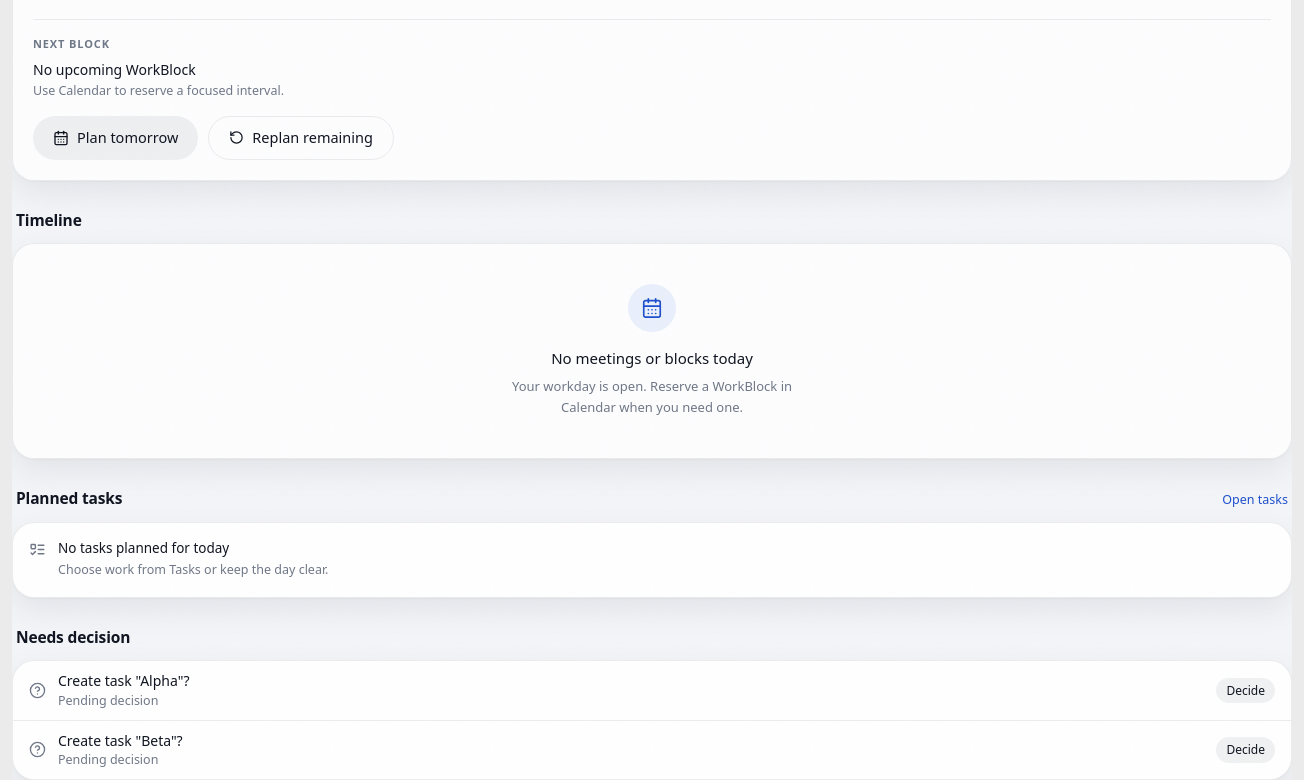
it: TodayPage confirmation decisions › handles an accepted confirmation inline and keeps the remaining item
This screenshot has width=1304, height=780.
(page scrolled)
Click the button "Create task \"Alpha\"? Pending decision Decide". click: (124, 681)
box: [13,661,1291,720]
(page scrolled)
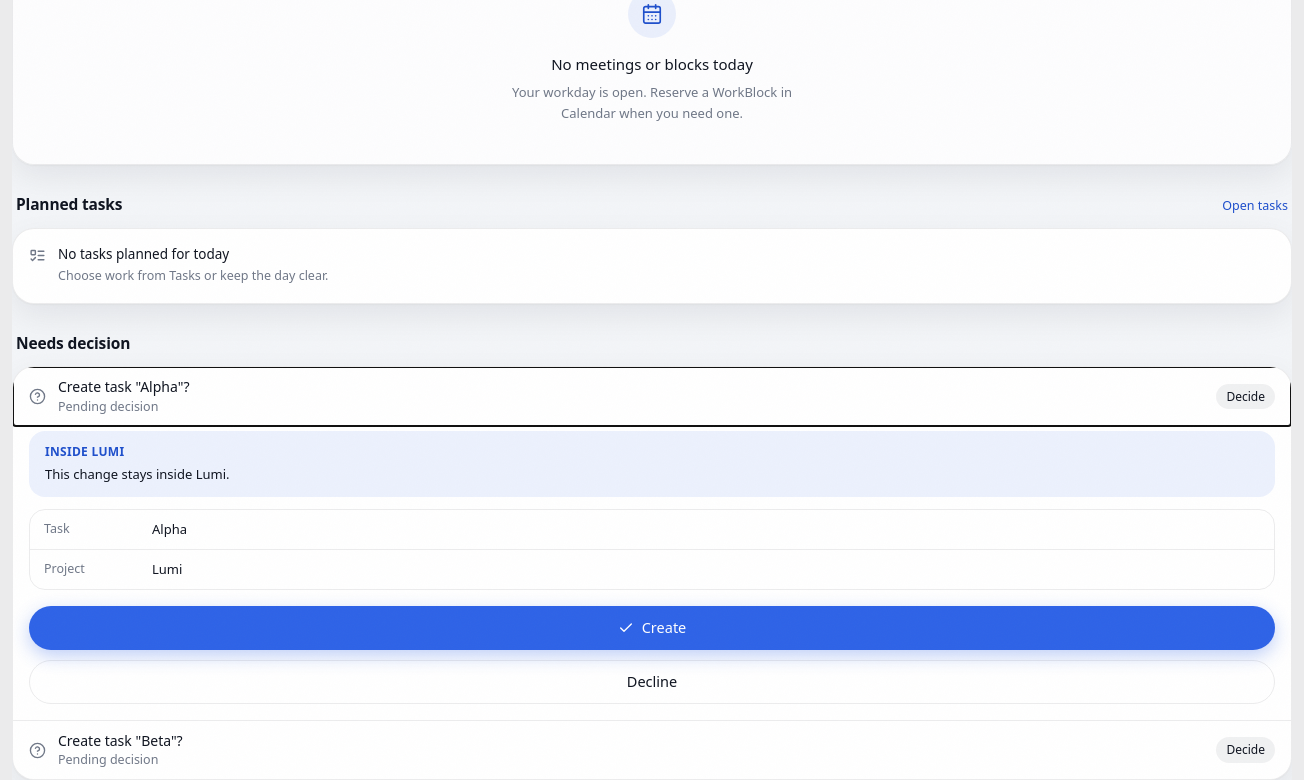
Expected: the text "Task" is shown, [44,520,70,537]
Expected: the text "Alpha" is shown, [152,520,187,538]
Click the button "Create". click: (652, 628)
box: [29,606,1275,650]
(page scrolled)
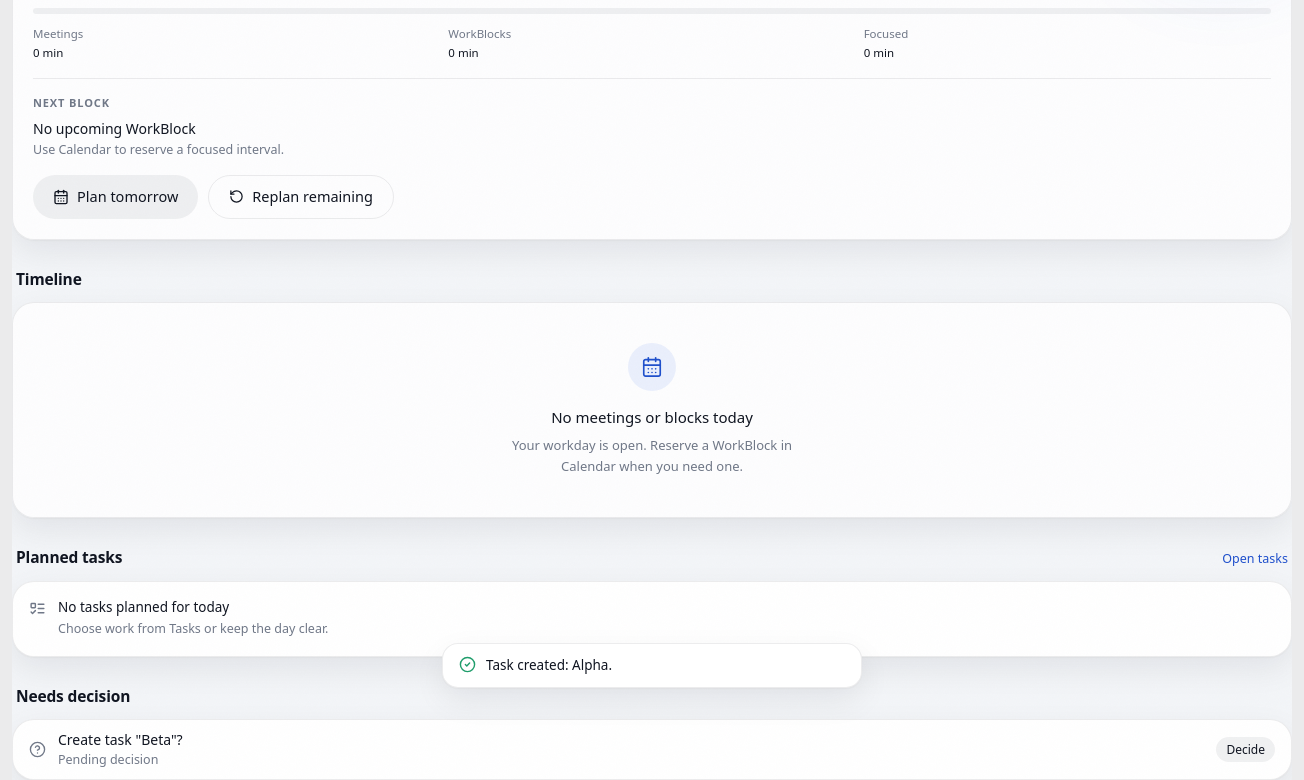
Expected: the button "Create task \"Beta\"? Pending decision Decide" is shown, [13,720,1291,779]
Expected: the text "Task created: Alpha." is shown, [486,656,612,675]
Expected: the button "Create task \"Alpha\"" is gone
